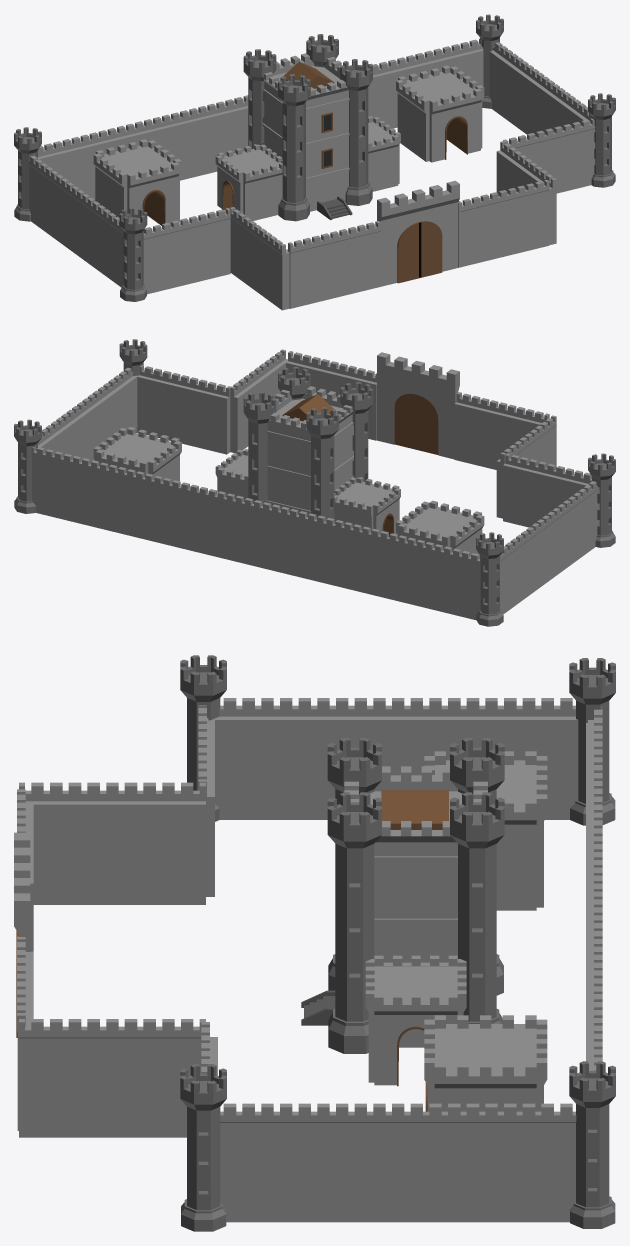
Rendered from CASTLE.fbx.
The picture shows the model from 3 angles, top to bottom: view 1: azimuth 30°, elevation 25°; view 2: azimuth 150°, elevation 25°; view 3: azimuth 270°, elevation 25°; orthographic projection. The views are drawn at different scales.
Visible parts, largest first — view 1: Cube.029, Cube.023, Cube.030, Cube.027, Cylinder.003, Cube.025, Cube.028, Cube.024, Cube.013, Cube.031, Cylinder.005, Cube.026 (+4 smaller); view 2: Cube.023, Cube.027, Cylinder.003, Cube.030, Cube.029, Cube.026, Cube.031, Cube.013, Cube.028, Cube.025, Cube.024, Cylinder.004 (+4 smaller); view 3: Cube.027, Cube.028, Cylinder.003, Cube.029, Cube.014, Cylinder.004, Cylinder.005, Cube.025, Cube.023, Cube.030, Cube.015, Cube.024 (+1 smaller).
Part boxes in pixels (x1,y1,x2,y2): Cube.029: [93, 65, 484, 232]; Cube.023: [38, 38, 483, 200]; Cube.030: [286, 179, 549, 308]; Cube.027: [29, 42, 591, 287]; Cylinder.003: [243, 34, 372, 221]; Cube.025: [215, 116, 400, 221]; Cube.028: [229, 141, 556, 310]; Cube.024: [143, 208, 230, 294]; Cube.013: [273, 53, 349, 211]; Cube.031: [377, 180, 459, 286]; Cylinder.005: [119, 93, 615, 301]; Cube.026: [503, 118, 595, 193]; Cube.023: [31, 446, 480, 619]; Cube.027: [38, 367, 599, 614]; Cylinder.003: [243, 366, 372, 521]; Cube.030: [286, 351, 549, 469]; Cube.029: [93, 427, 484, 558]; Cube.026: [137, 365, 231, 454]; Cube.031: [377, 352, 459, 459]; Cube.013: [267, 386, 343, 516]; Cube.028: [230, 349, 556, 518]; Cube.025: [215, 449, 400, 536]; Cube.024: [503, 453, 591, 527]; Cylinder.004: [14, 419, 503, 626]; Cube.027: [212, 698, 578, 1222]; Cube.028: [19, 782, 205, 1137]; Cylinder.003: [327, 738, 504, 1053]; Cube.029: [424, 751, 547, 1111]; Cube.014: [374, 766, 457, 962]; Cylinder.004: [569, 658, 615, 1228]; Cylinder.005: [180, 655, 226, 1231]; Cube.025: [365, 955, 466, 1086]; Cube.023: [586, 707, 602, 1070]; Cube.030: [17, 789, 33, 1130]; Cube.015: [381, 790, 448, 829]; Cube.024: [198, 705, 214, 896].
Bounding box in the file's own units: 34106 × 8980 × 20248.
